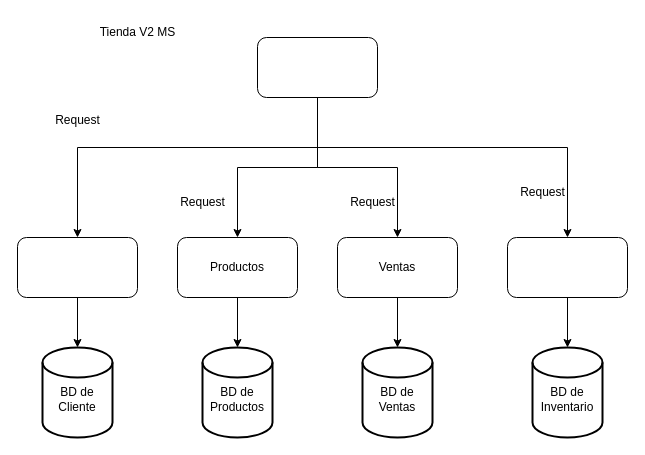
Some shapes in this 645 by 455 pixel diagram are drawn without their labels. Here are the shapes that lost their labels. From the top down, the box of each, then its label:
(256, 36, 378, 98): UI
(16, 236, 138, 298): Clientes
(506, 236, 628, 298): Inventario
